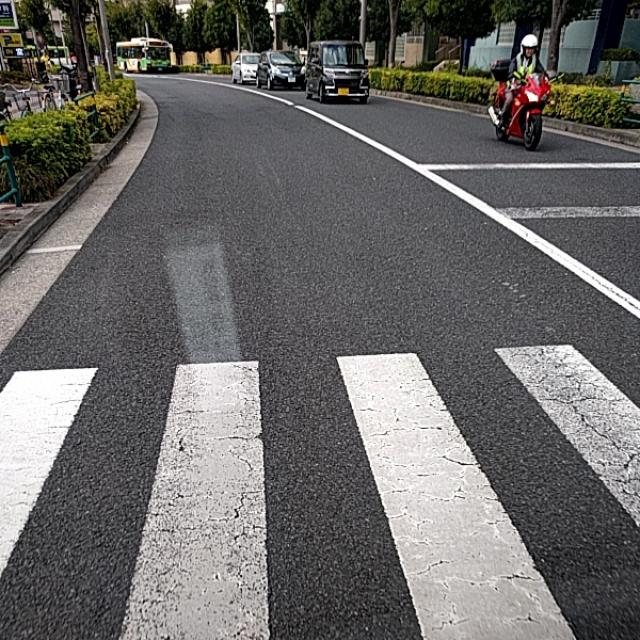pothole: (143, 401, 271, 542)
